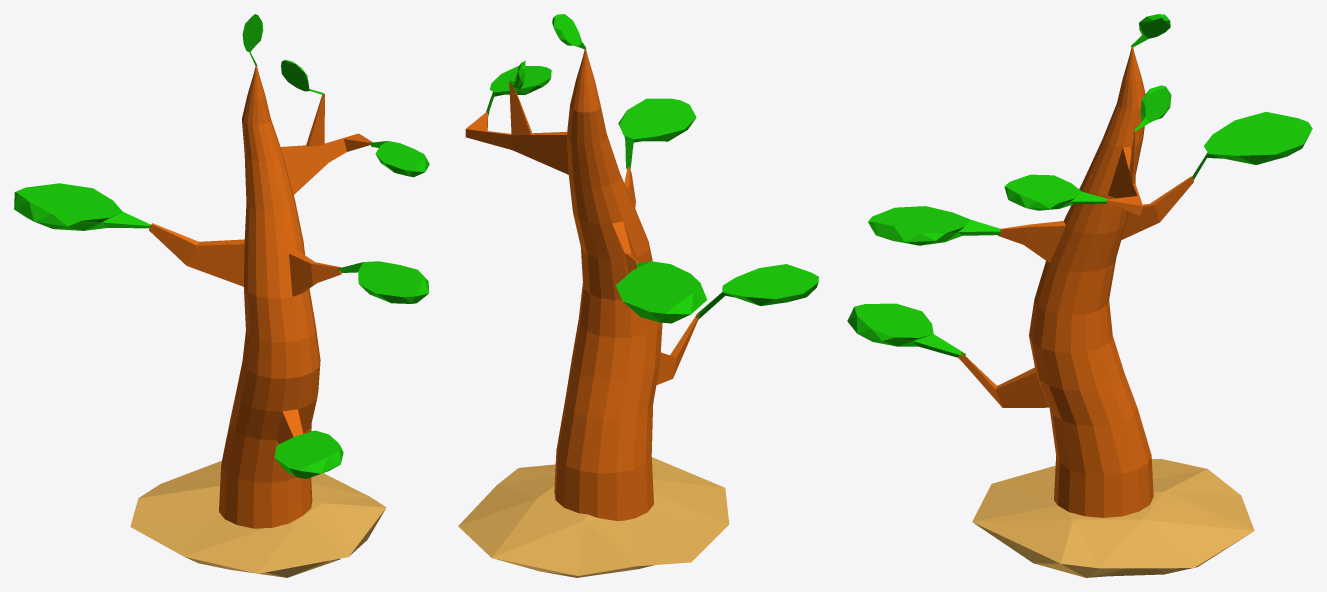
The model's file is Sprout.fbx.
The picture shows the model from 3 angles, left to right: view 1: azimuth 30°, elevation 25°; view 2: azimuth 150°, elevation 25°; view 3: azimuth 270°, elevation 25°; orthographic projection. The views are drawn at different scales.
Visible parts, largest first — view 1: Sprout; view 2: Sprout; view 3: Sprout.
Part boxes in pixels (x1,y1,x2,y2): Sprout: [14, 14, 429, 577]; Sprout: [458, 14, 818, 577]; Sprout: [847, 14, 1312, 577].
Size of the model in its own units: 7.23 by 12.03 by 9.29.
